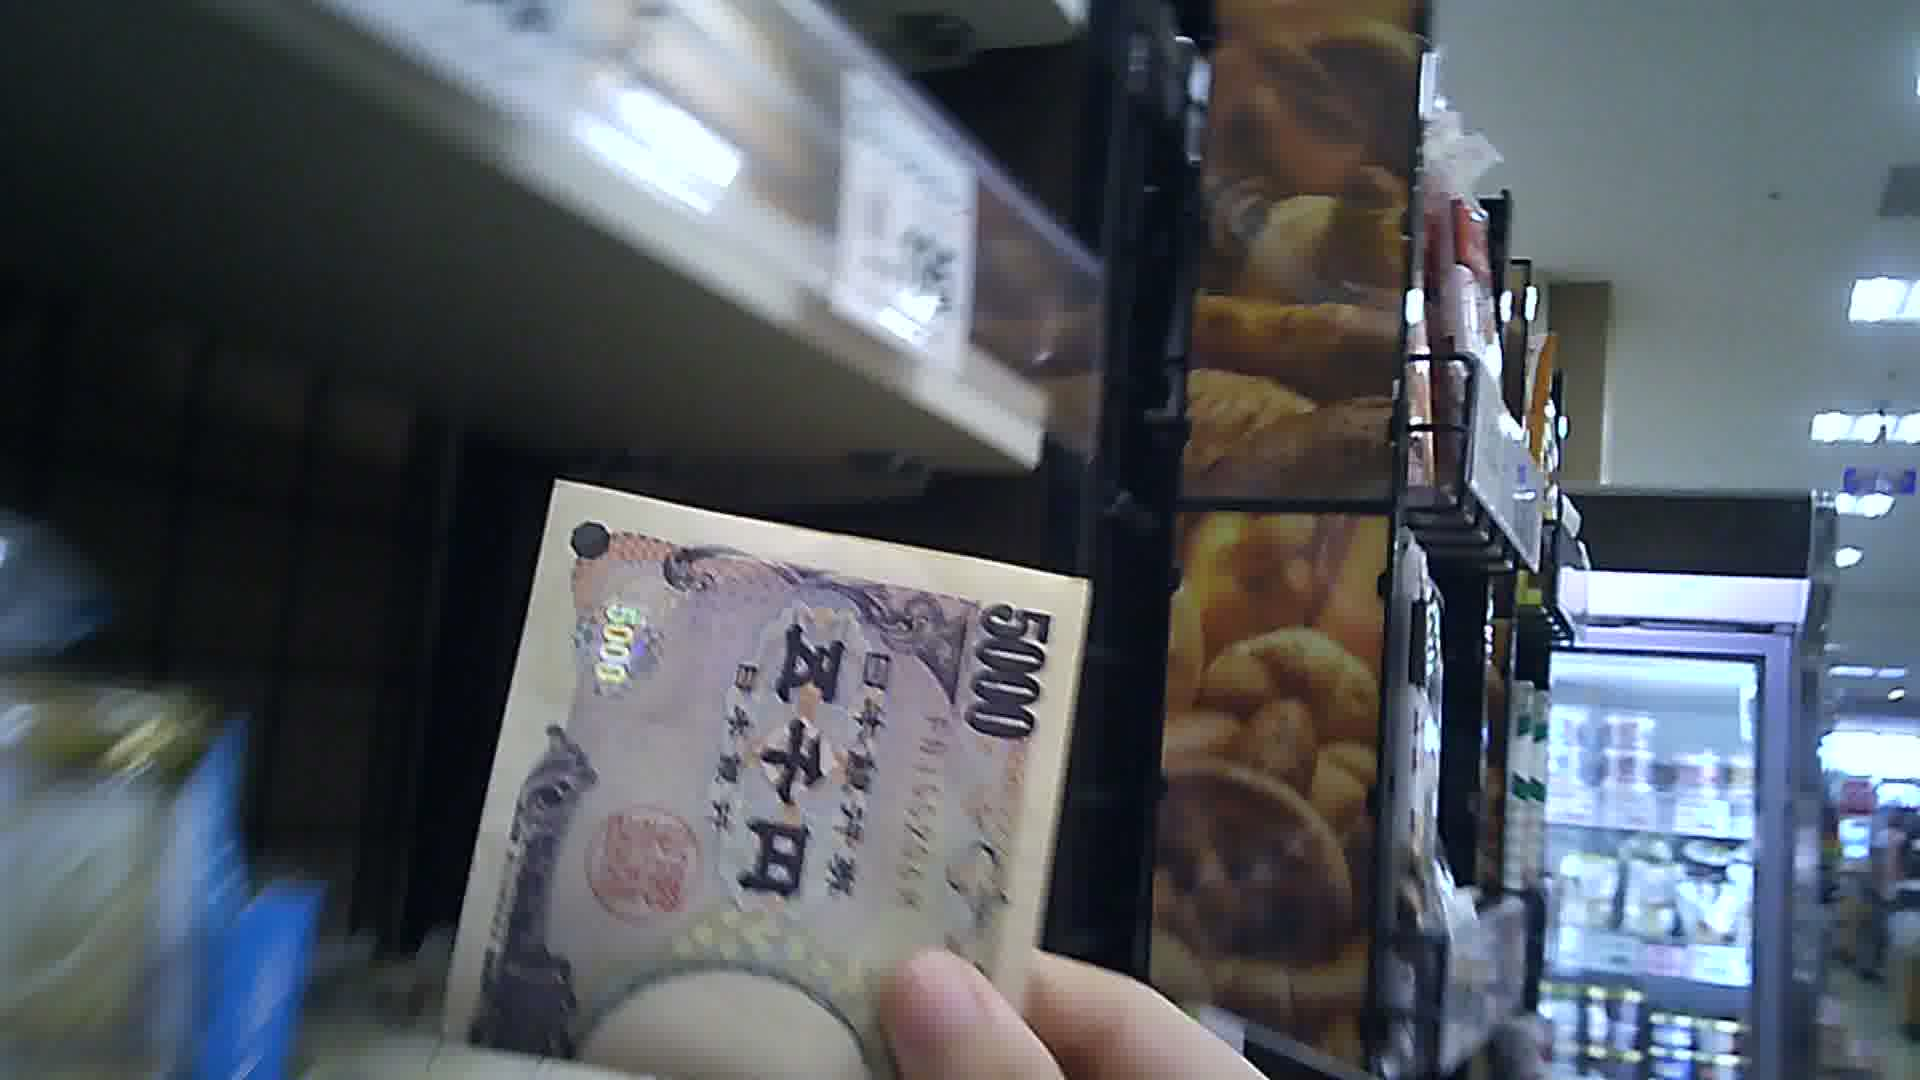5,000 Yen: (433, 465, 1081, 1079)
